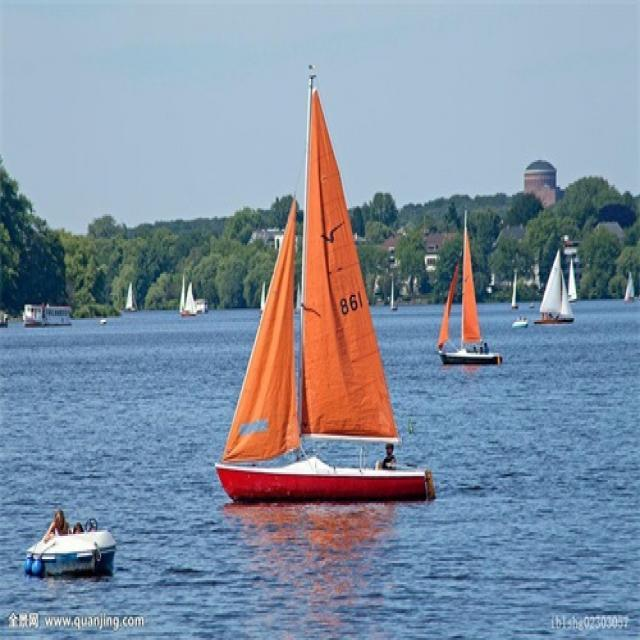Ship: (228, 77, 433, 504), (444, 207, 494, 373), (531, 237, 583, 334), (619, 263, 640, 312), (510, 265, 525, 317), (387, 260, 400, 312), (125, 277, 139, 315), (182, 274, 194, 313)
